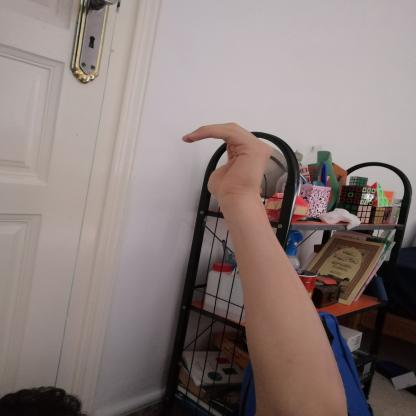HAA: (170, 114, 278, 202)
